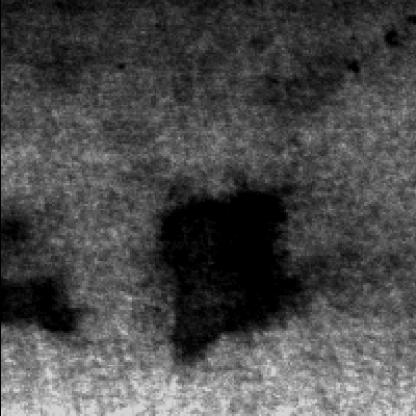patches: (158, 179, 308, 362), (2, 266, 92, 343)
